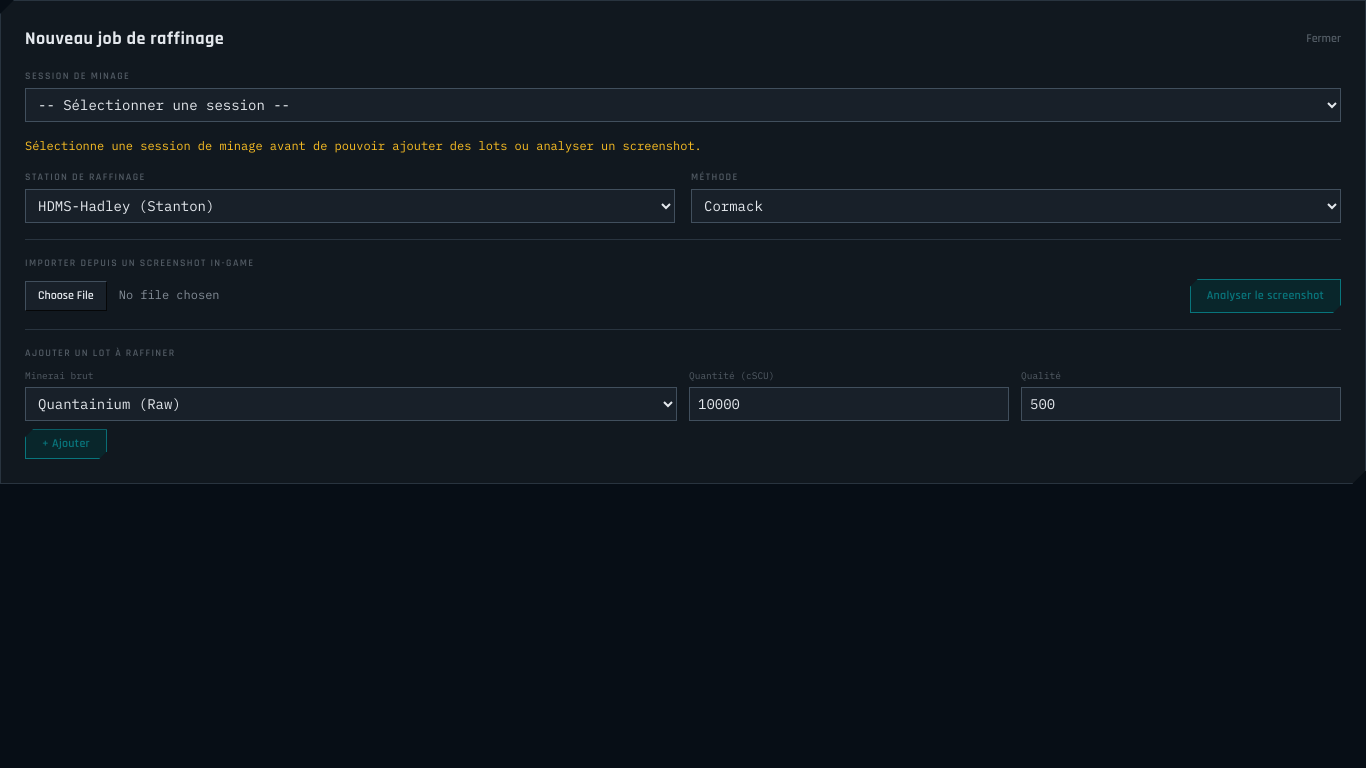
Test case: NewJobForm — mode batch › retire un lot de la liste au clic sur Retirer
Expected: the button "+ Ajouter" is shown, [25, 429, 107, 459]
Select "MIN001 — Stanton" in the dropdown labelled "Session de minage". click: (683, 105)
box: [25, 88, 1341, 122]
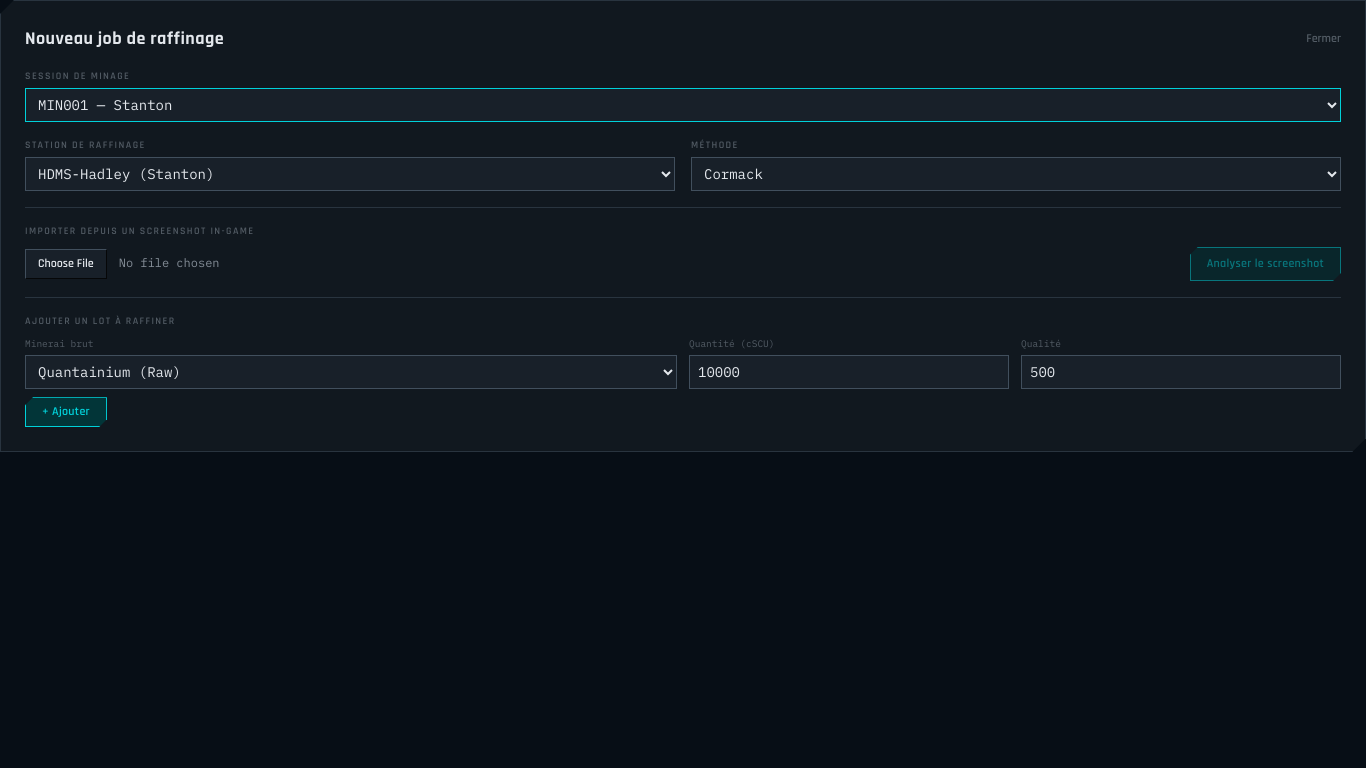
Click the button "+ Ajouter". click: (66, 412)
box: [25, 397, 107, 427]
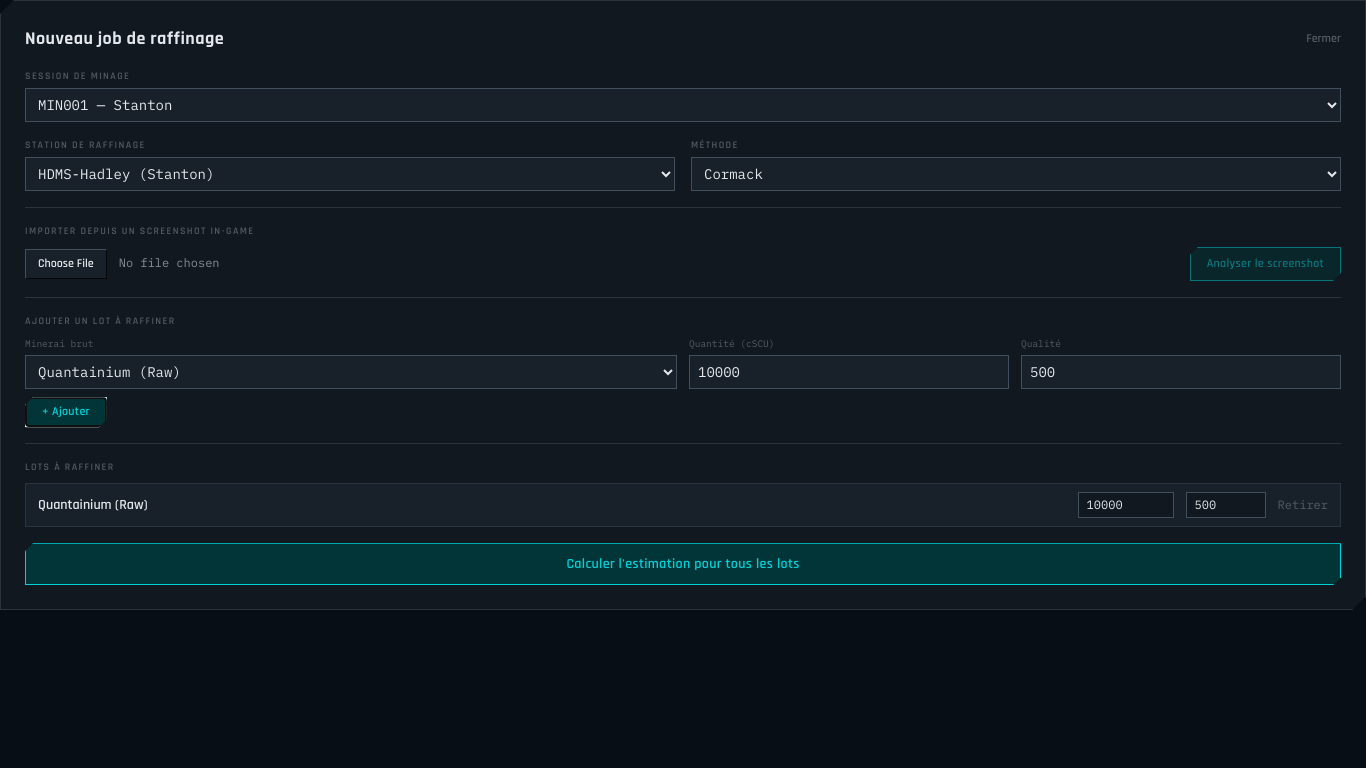
Result: the text "Lots à raffiner" is shown at [25, 461, 115, 473]
Click the button "Retirer". click: (1303, 505)
box: [1278, 497, 1328, 513]
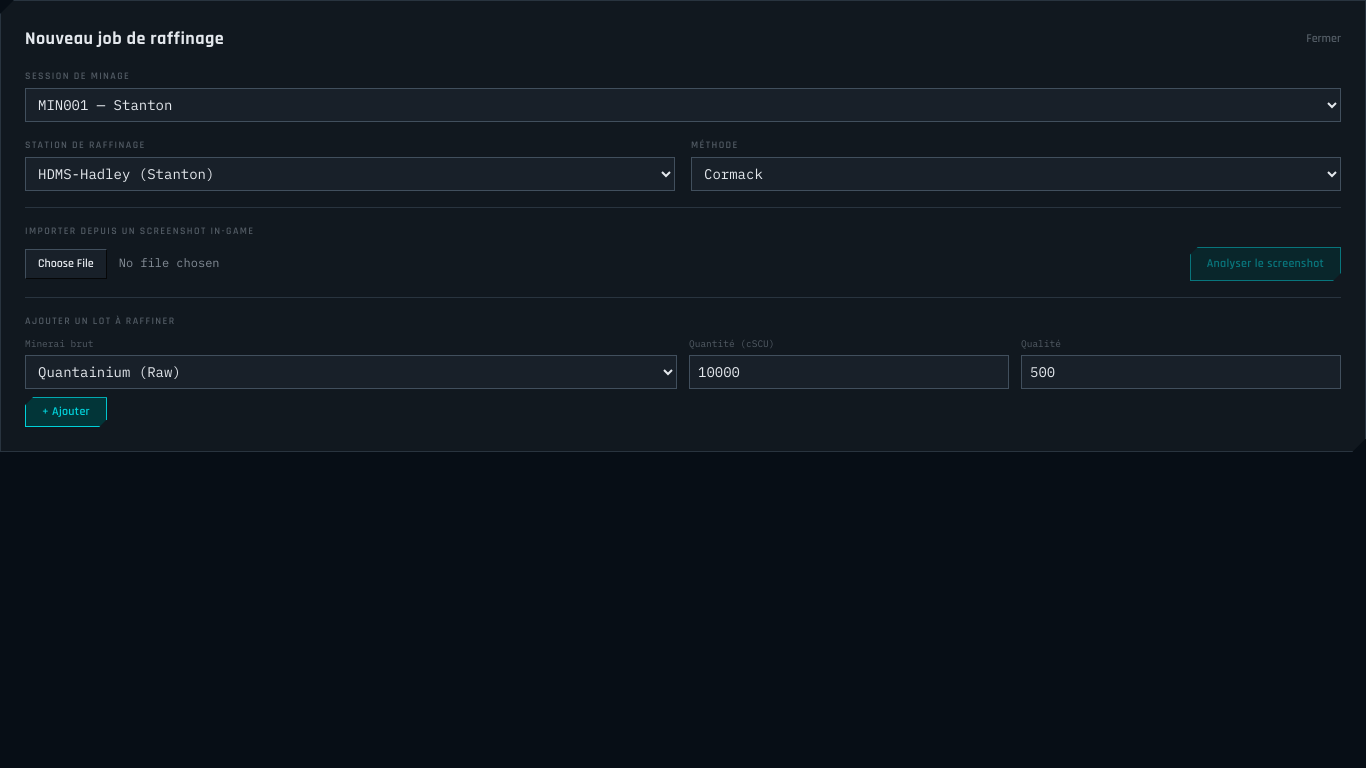
Result: the text "Lots à raffiner" is gone
